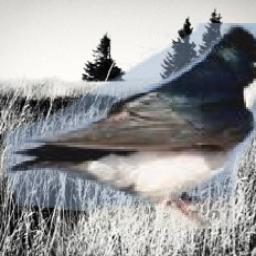Sparrow: (255, 0, 256, 36)
Swallow: (6, 23, 256, 229)
